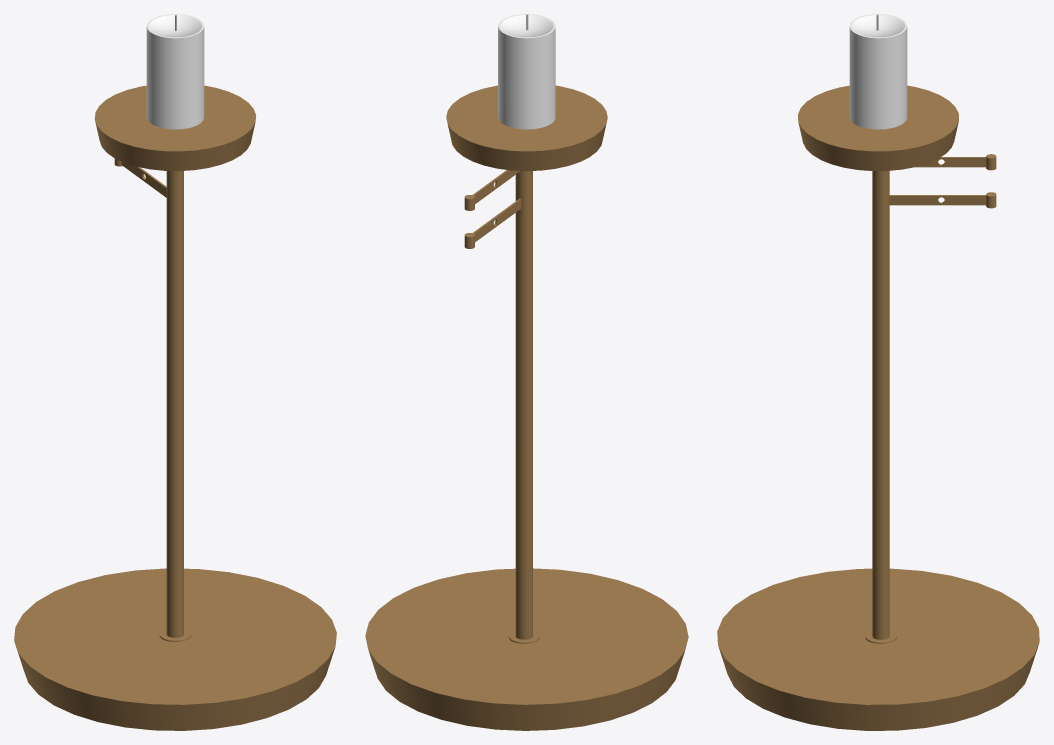
The picture shows the model from 3 angles, left to right: view 1: azimuth 30°, elevation 25°; view 2: azimuth 150°, elevation 25°; view 3: azimuth 270°, elevation 25°; orthographic projection.
Visible parts, largest first — view 1: 촛대 5; view 2: 촛대 5; view 3: 촛대 5.
Part boxes in pixels (bbox=[...]): 촛대 5: bbox=[14, 14, 336, 730]; 촛대 5: bbox=[365, 14, 688, 730]; 촛대 5: bbox=[717, 14, 1039, 730].
Size of the model in its own units: 7.58 by 16.92 by 7.58.
